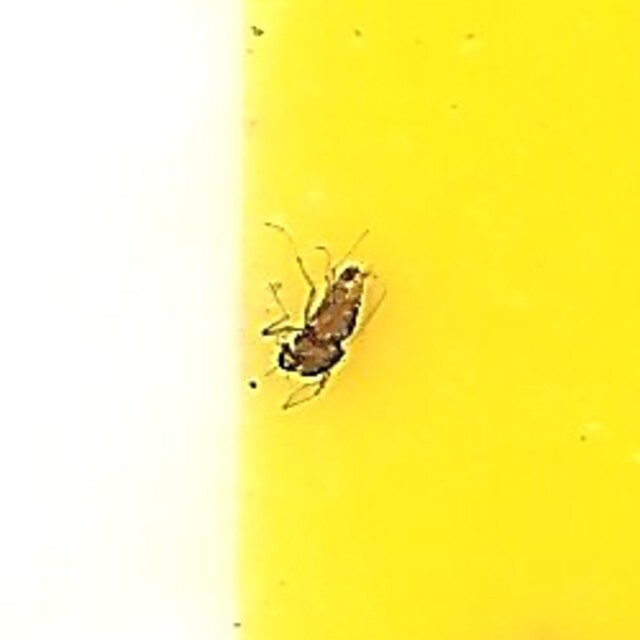Nematocera: (256, 240, 384, 400)
